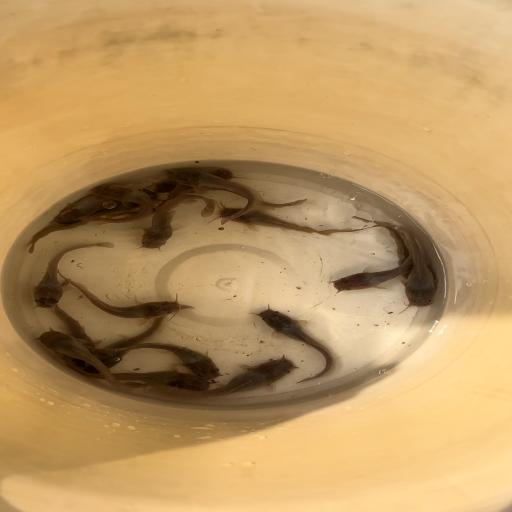lele: (348, 214, 436, 307), (48, 267, 194, 319), (34, 330, 155, 388), (151, 353, 297, 399), (21, 198, 136, 254), (256, 307, 337, 385), (345, 220, 440, 284), (30, 242, 116, 310), (166, 167, 263, 225), (329, 235, 424, 292), (82, 316, 170, 373), (217, 204, 383, 232), (138, 194, 217, 251), (149, 180, 308, 208), (68, 364, 211, 393), (107, 342, 219, 379), (81, 184, 153, 228), (52, 305, 102, 362), (52, 191, 120, 224), (202, 165, 246, 180)
